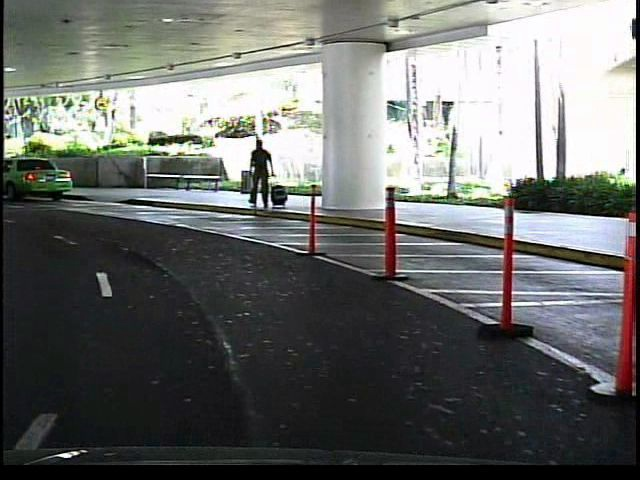person: (244, 133, 277, 212)
